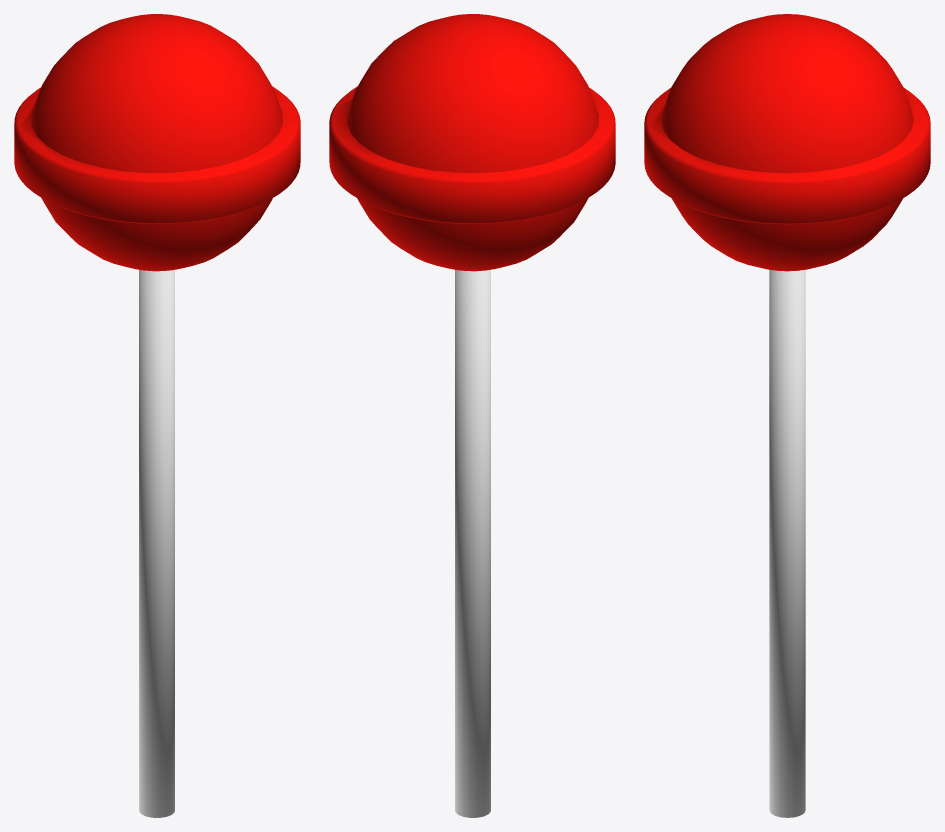
Rendered from Blowpop.fbx.
3 views of the same model, side by side, from view 1: azimuth 30°, elevation 25°; view 2: azimuth 150°, elevation 25°; view 3: azimuth 270°, elevation 25° (orthographic).
Parts seen in each view (by area): view 1: Blowpop; view 2: Blowpop; view 3: Blowpop.
Boxes of the visible parts, bbox=[...] form: Blowpop: bbox=[14, 14, 300, 817]; Blowpop: bbox=[329, 14, 615, 817]; Blowpop: bbox=[644, 14, 930, 817].
Size of the model in its own units: 143 by 433 by 143.
